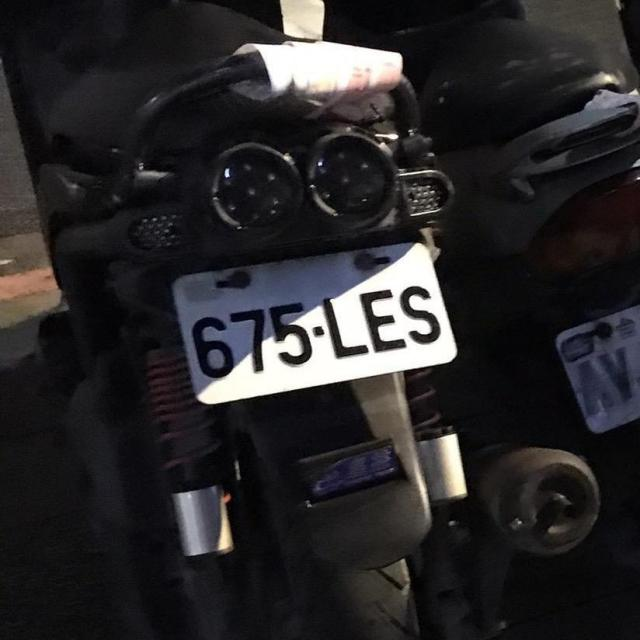W: (174, 242, 458, 406)
